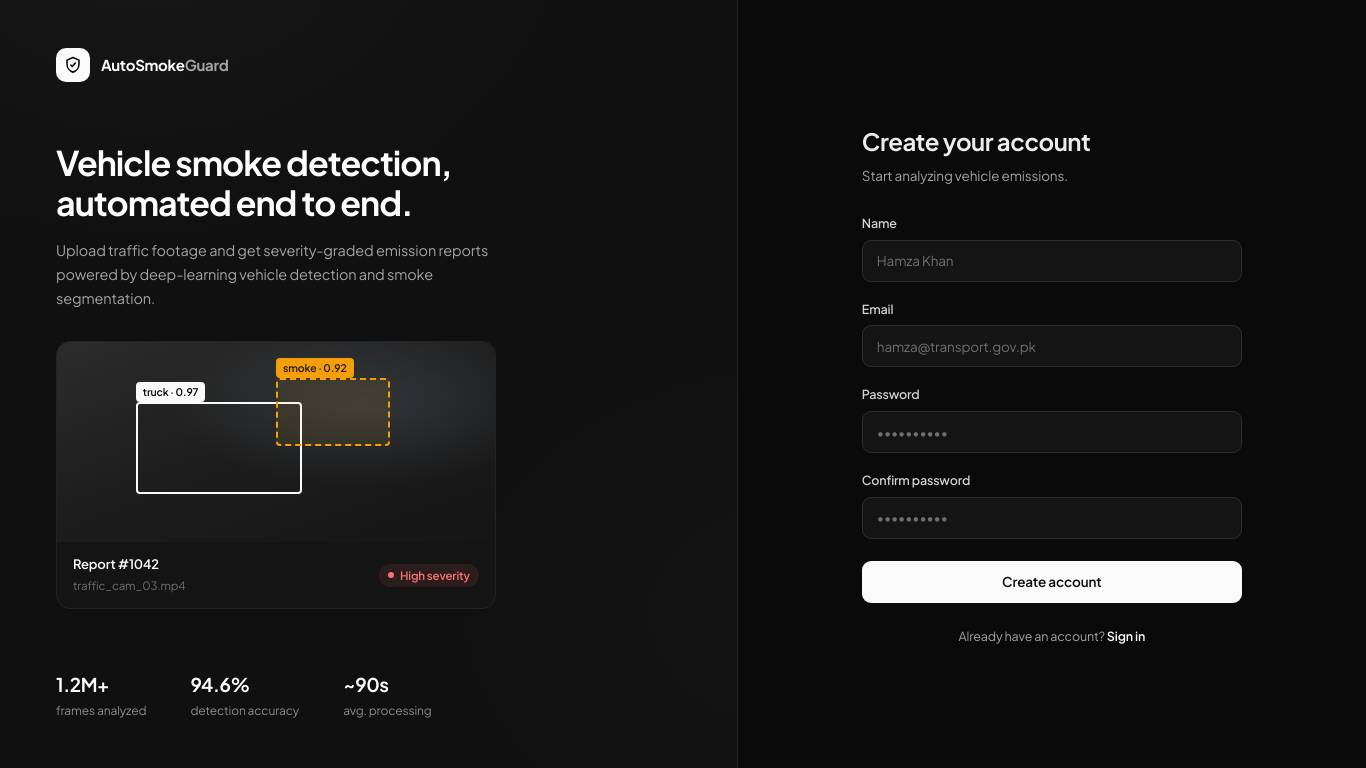
RegisterPage › announces a server field error via role="alert" wired to aria-describedby (D22)
Type "Someone Valid" into the field labelled "Name" at (1052, 260), box [862,240,1242,282]
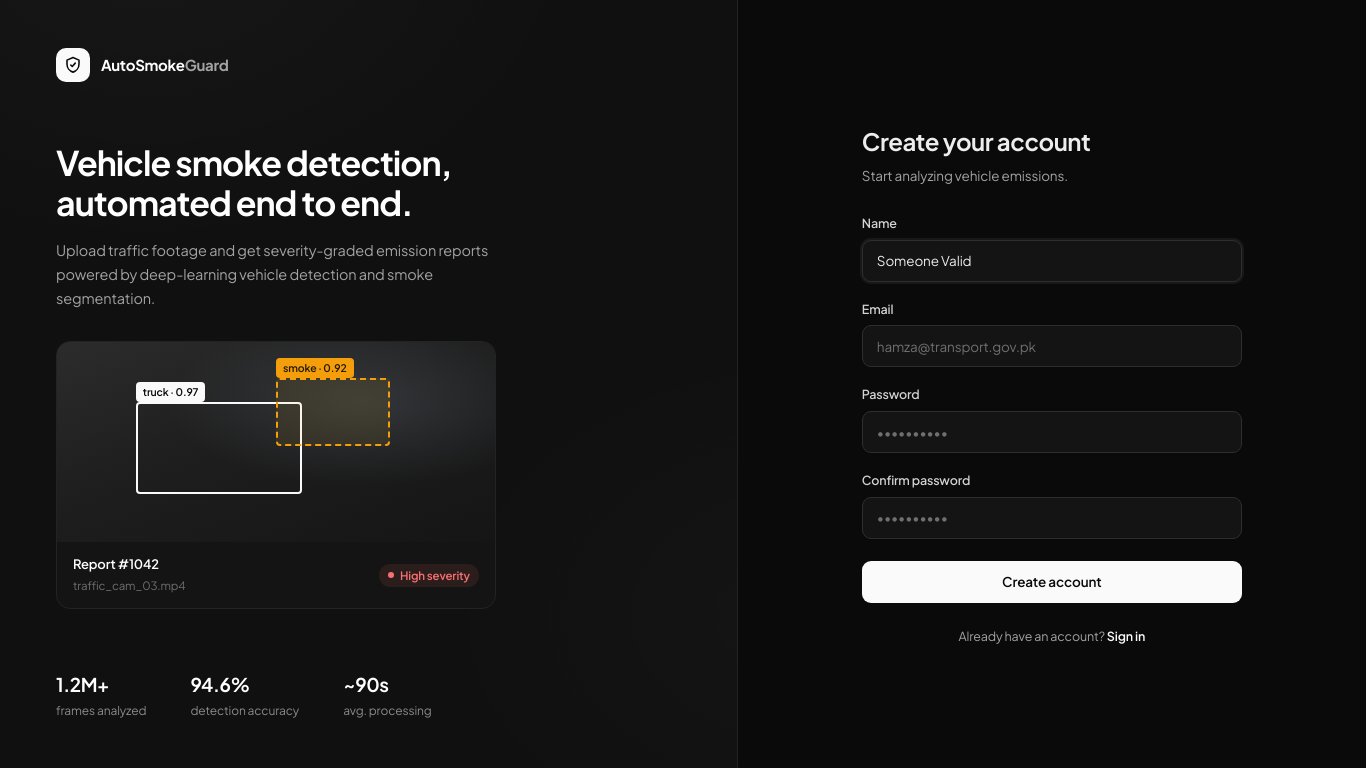
Type "newperson@transport.gov.pk" into the field labelled "Email" at (1052, 346), box [862,325,1242,367]
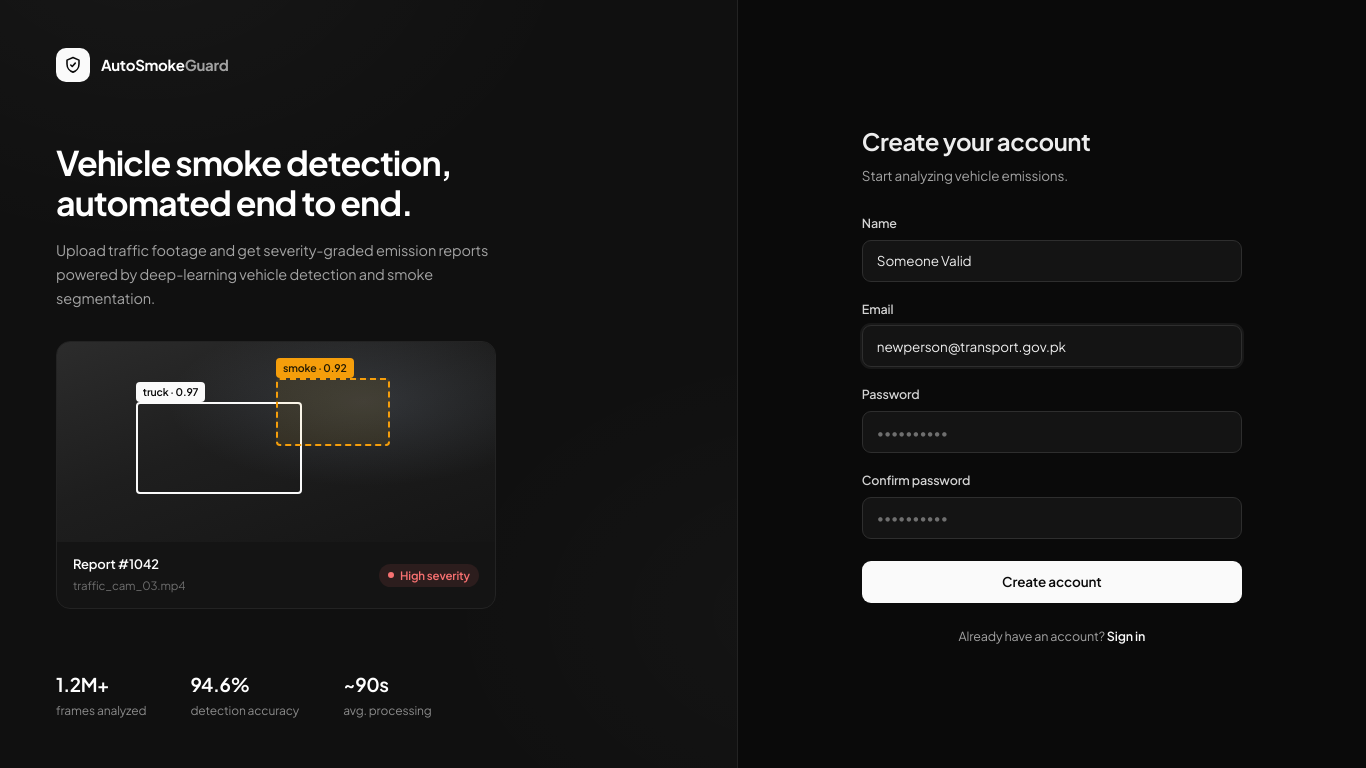
Type "Passw0rd123" into the password field labelled "Password" at (1052, 432), box [862,411,1242,453]
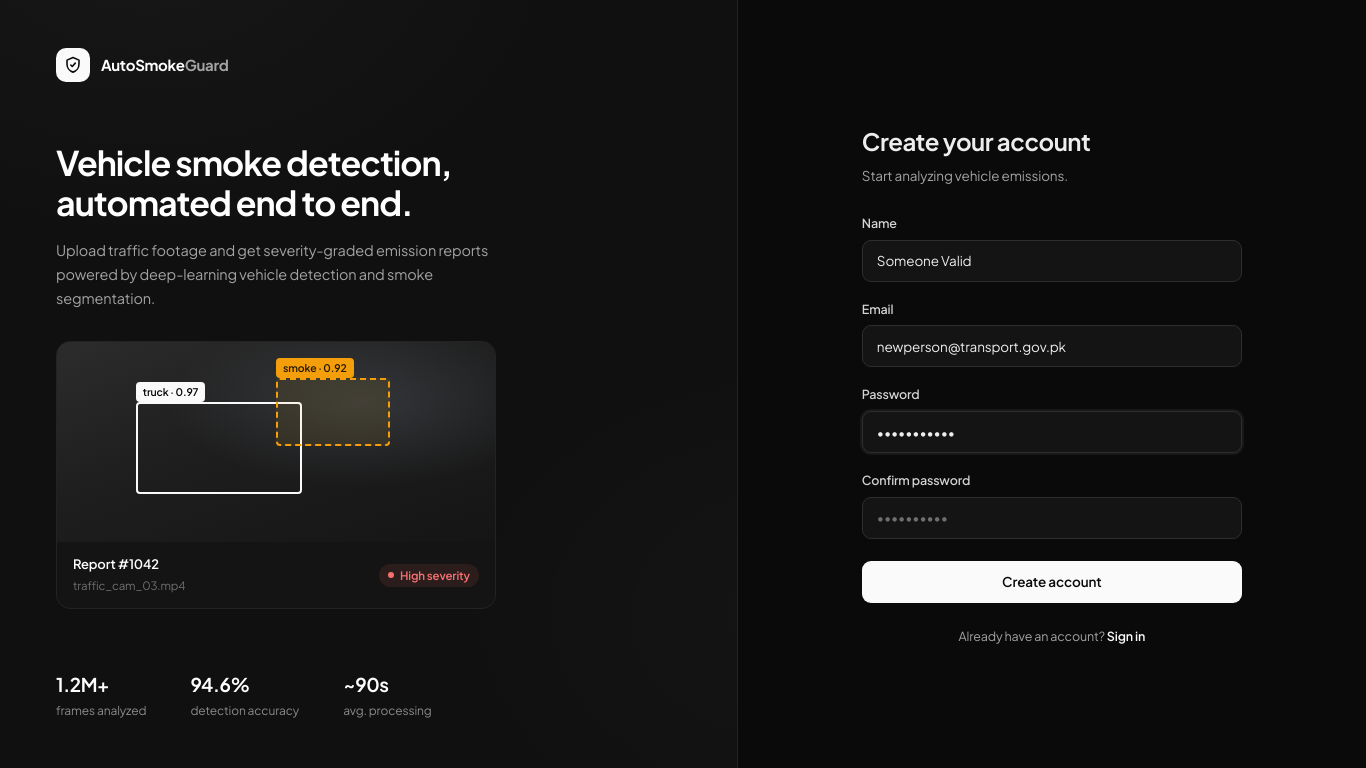
Type "Passw0rd123" into the password field labelled "Confirm password" at (1052, 518), box [862,497,1242,539]
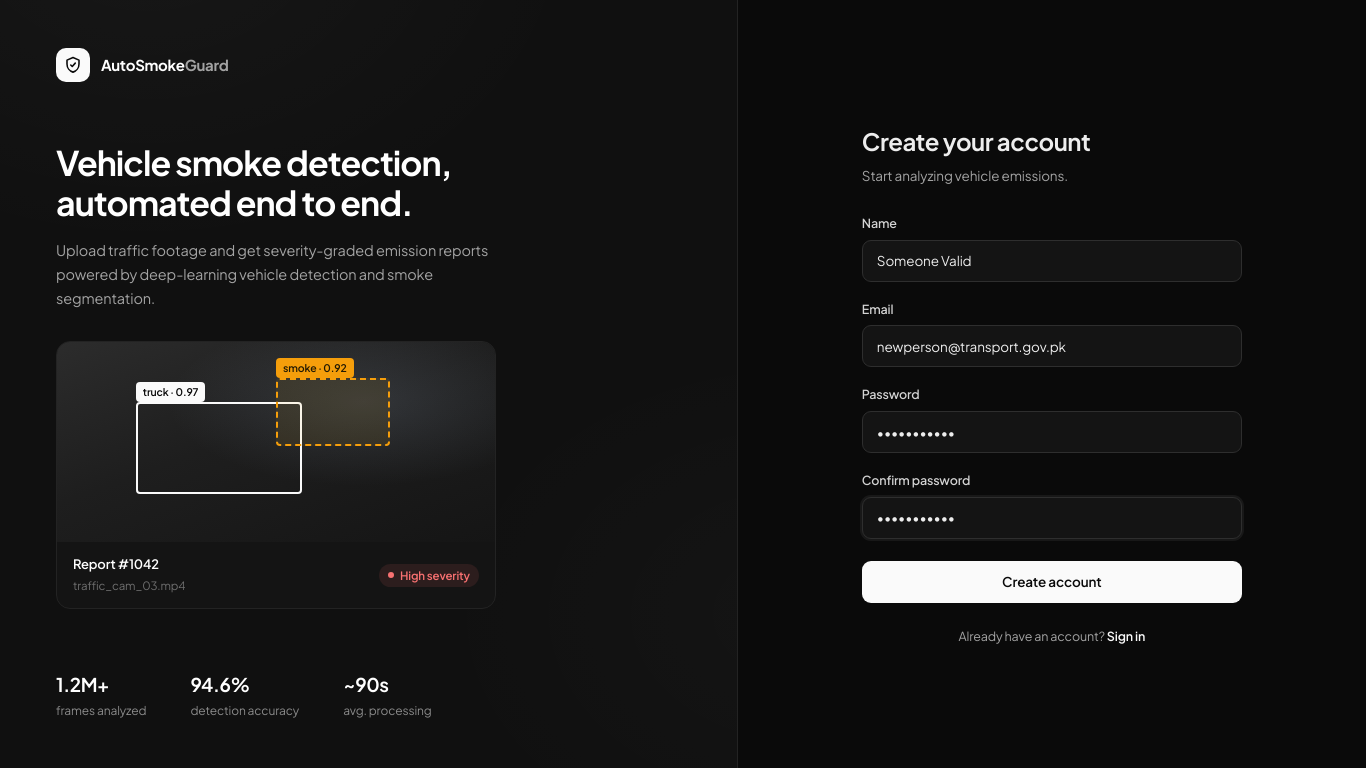
Click the button "Create account" at (1052, 582), box [862,561,1242,603]
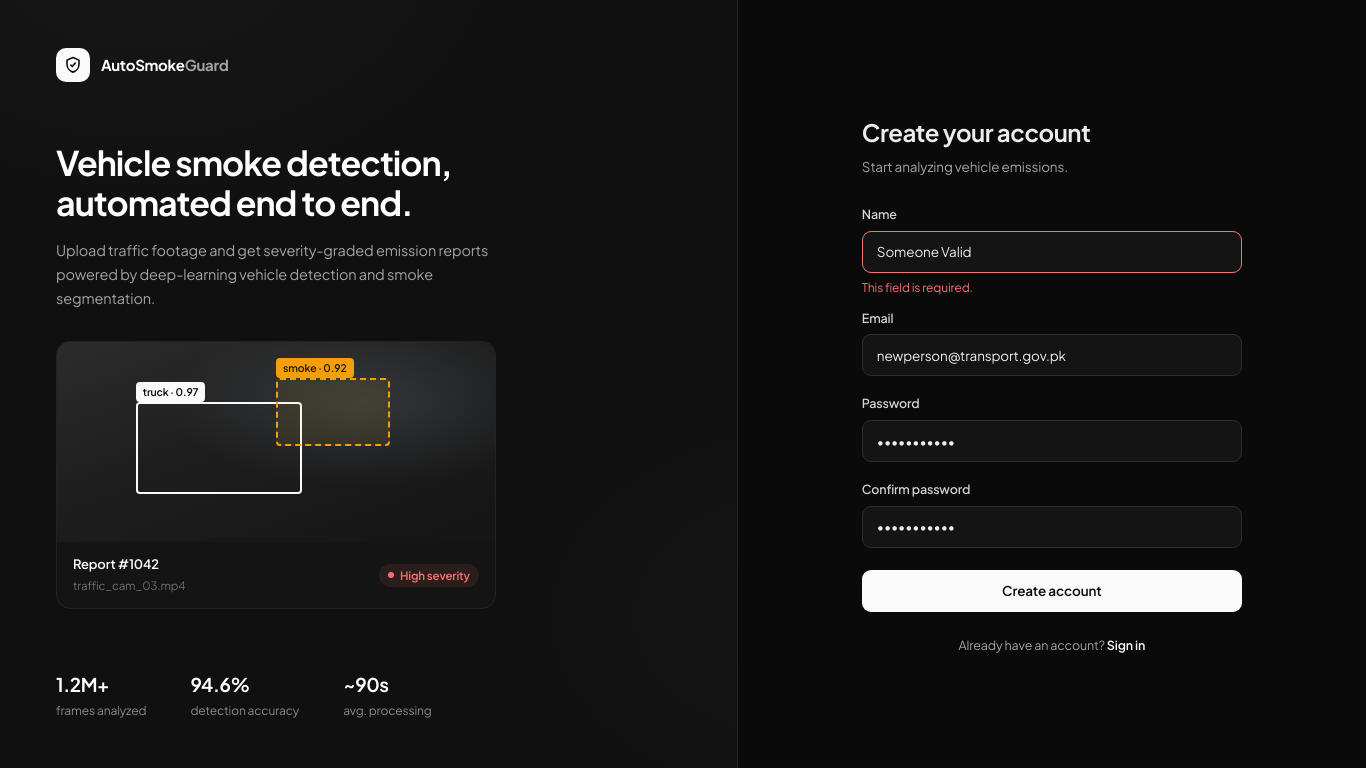
Expected: the message shows "This field is required", [862,280,973,294]
